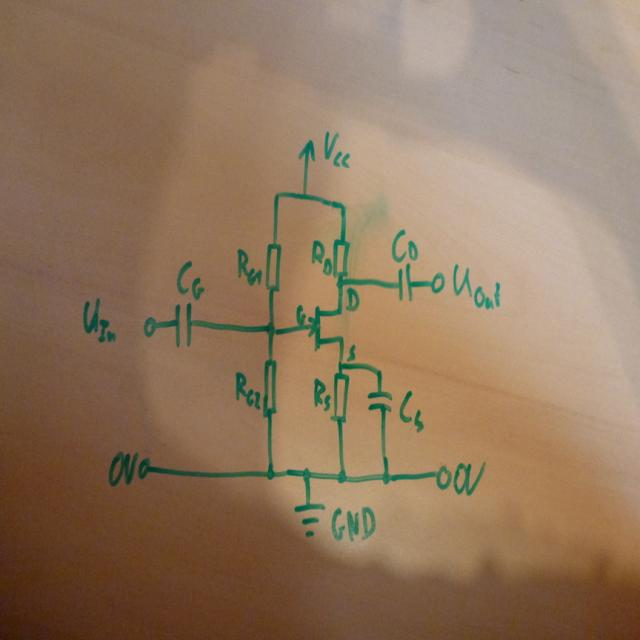capacitor: (172, 300, 196, 349), (366, 386, 392, 415), (395, 263, 414, 302)
ground: (293, 499, 325, 538)
junction: (264, 319, 277, 338), (336, 468, 346, 484), (302, 465, 311, 481), (382, 470, 391, 485), (265, 466, 274, 480), (338, 200, 346, 212), (272, 190, 280, 200), (336, 360, 344, 370), (374, 366, 382, 376), (336, 278, 344, 286), (301, 190, 307, 200)
resistor: (262, 356, 277, 419), (331, 371, 349, 423), (264, 241, 281, 293), (332, 237, 349, 277)
source: (297, 138, 315, 161)
terminal: (434, 463, 451, 490), (428, 271, 445, 294), (136, 455, 151, 480), (142, 315, 156, 337)
text: (452, 263, 501, 309), (330, 505, 376, 541), (82, 296, 116, 343), (452, 459, 486, 496), (106, 449, 138, 486), (233, 369, 261, 410), (176, 259, 204, 299), (398, 389, 423, 433), (323, 129, 350, 169), (236, 247, 262, 286), (390, 228, 418, 263), (310, 238, 332, 276), (311, 376, 331, 412), (345, 286, 359, 311), (294, 303, 306, 325), (345, 342, 356, 362)
transistor: (306, 304, 344, 351)
